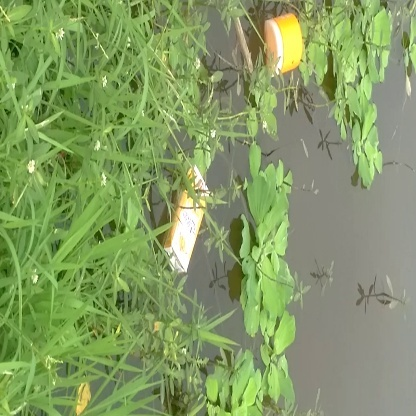bottle: (259, 11, 312, 78)
milk-box: (163, 160, 215, 280)
